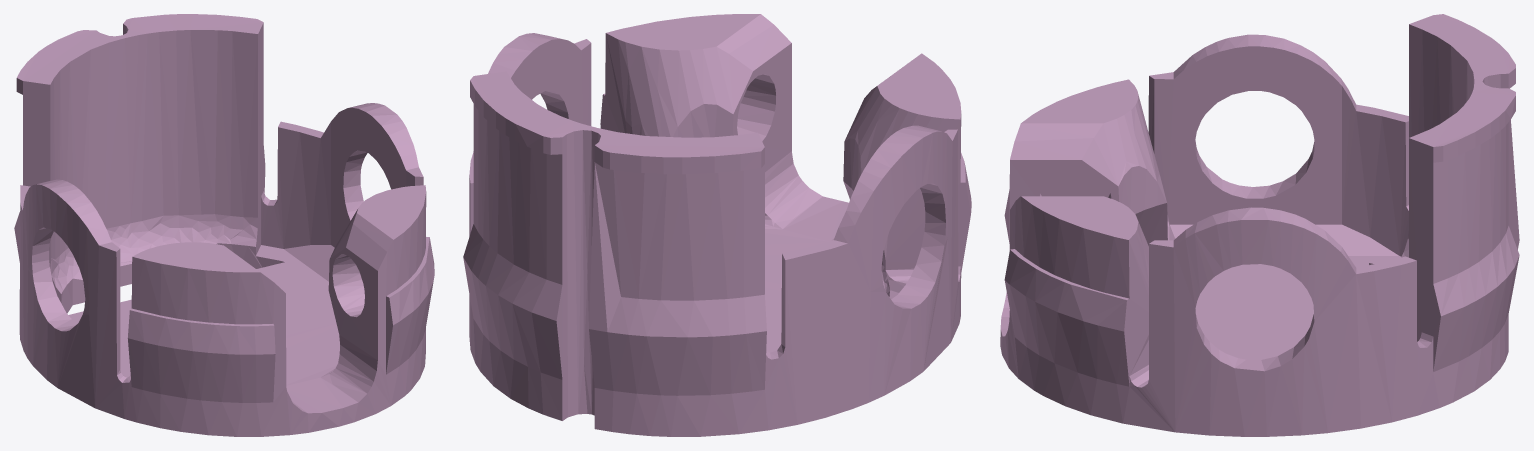
File: i02_head_right_eye_vertical_visual_0.obj.light.glb
The picture shows the model from 3 angles, left to right: view 1: azimuth 30°, elevation 25°; view 2: azimuth 150°, elevation 25°; view 3: azimuth 270°, elevation 25°; orthographic projection. The views are drawn at different scales.
Bounding box in the file's own units: 0.1896 × 0.1261 × 0.225.
